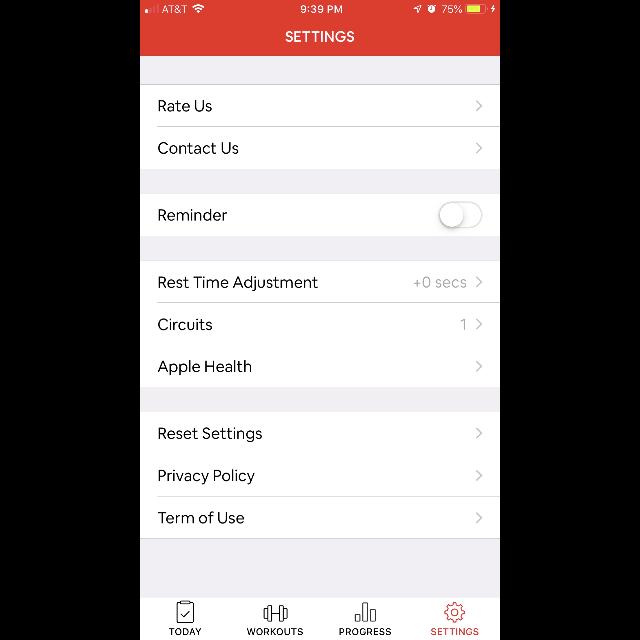icon: (354, 602, 376, 622), (178, 600, 195, 624), (444, 602, 464, 622), (476, 100, 482, 112), (476, 142, 482, 154), (476, 276, 482, 288), (476, 512, 482, 524), (476, 318, 482, 329), (476, 361, 482, 372), (476, 471, 482, 482), (476, 428, 482, 438)
image: (264, 606, 288, 622)
switch: (438, 202, 482, 228)
text: (158, 276, 318, 292), (159, 469, 255, 485), (157, 360, 251, 376), (158, 428, 262, 442), (158, 512, 244, 524), (159, 142, 239, 154), (159, 209, 227, 221), (286, 32, 354, 42), (158, 100, 212, 112), (158, 318, 212, 330), (414, 276, 466, 288), (247, 628, 303, 636), (340, 628, 390, 636), (432, 628, 478, 634), (170, 628, 202, 636), (461, 318, 465, 329)
uppertaskbar: (140, 0, 500, 14)
